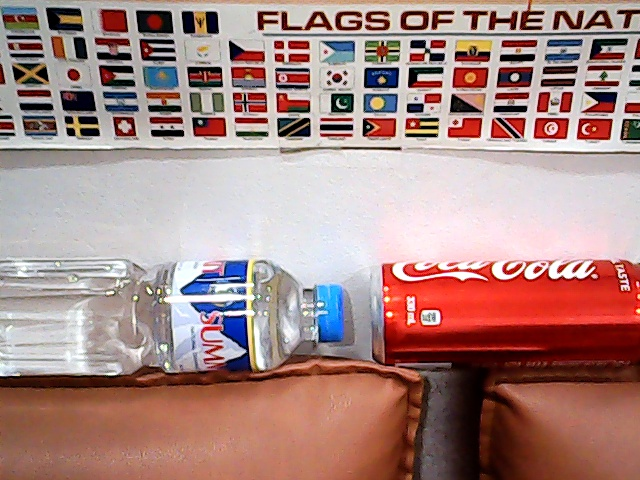Cola: (352, 247, 640, 381)
Summit Water: (1, 246, 364, 399)
